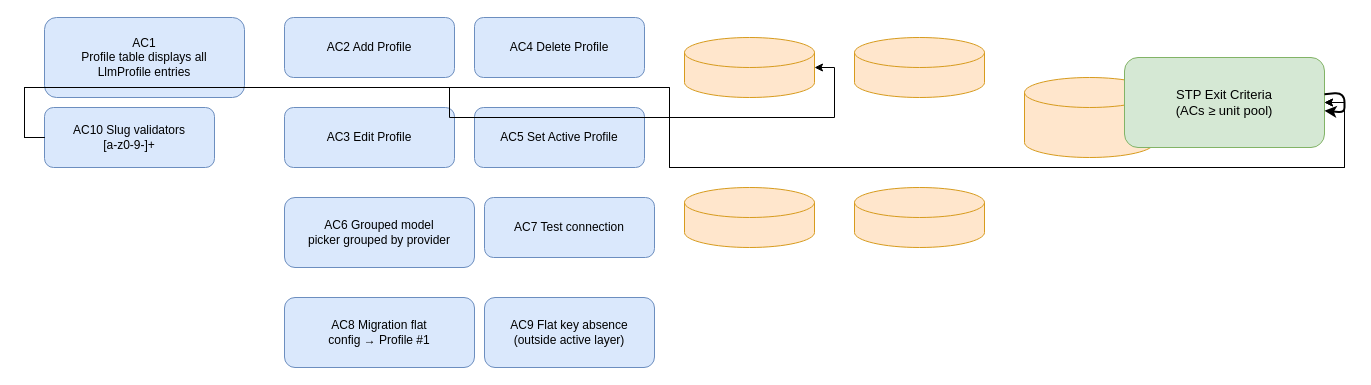
Image size: 1371x385. Some labels were removed from this diagram. The shapes that lost their labels are listed below. From the top down, each one's box as (x1, y1, x2, y2) in pixels, then its label:
(684, 36, 814, 98): Unit Tests
(854, 36, 984, 98): Integration
(1024, 76, 1154, 158): Static Checks
(684, 186, 814, 248): E2E
(854, 186, 984, 248): Manual SIT
